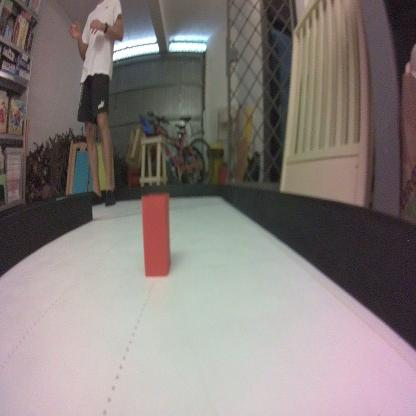red: (140, 193, 172, 279)
